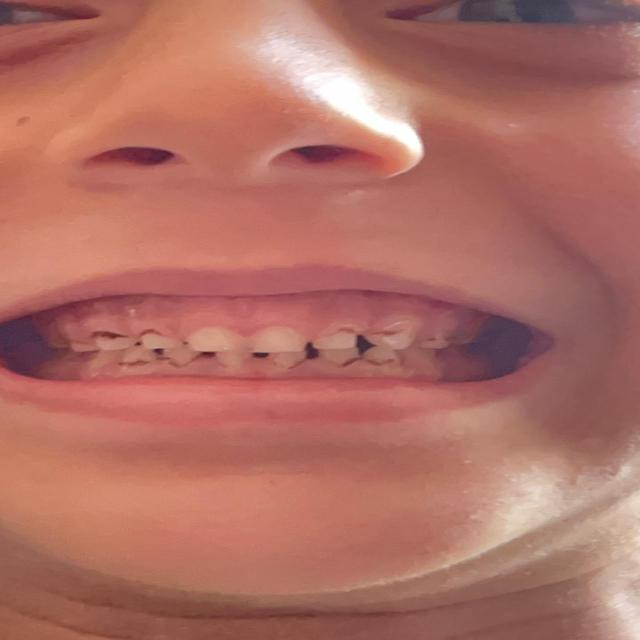tooth: (186, 328, 238, 346), (252, 329, 300, 348), (137, 326, 172, 350), (326, 348, 360, 368), (306, 333, 351, 347), (100, 331, 130, 350), (167, 353, 199, 369), (218, 351, 248, 367), (370, 335, 408, 347), (120, 350, 148, 364), (275, 353, 301, 368), (422, 336, 446, 350), (373, 346, 383, 362)
